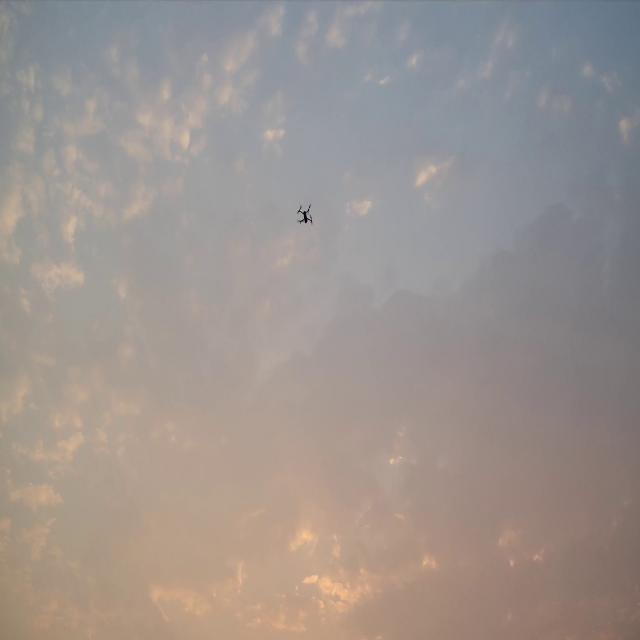UAV: (296, 204, 313, 225)
